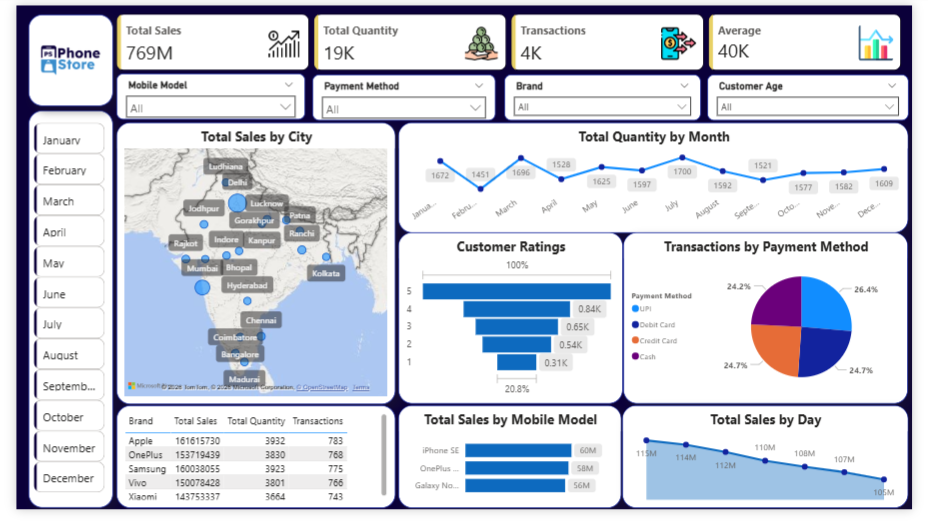

The dashboard page shown, as its layout file describes it:
{"tool":"powerbi","page":{"name":"Page 1","canvas":[1280,720],"ordinal":0},"visuals":[{"type":"shape","box":[16.5,150,121.1,568.4],"z":0},{"type":"shape","box":[16.5,12.4,121.1,130.8],"z":1000},{"type":"image","box":[16.5,12.4,121.1,130.8],"z":2000},{"type":"advancedSlicerVisual","fields":{"Values":["Sales Data.Date.Variation.Date Hierarchy.Month"]},"box":[20.6,162.4,111.5,543.7],"z":3000},{"type":"cardVisual","fields":{"Data":["Sales Data.Total Sales","Sales Data.Total Quantity","Sales Data.Transactions","Sales Data.Average"]},"box":[130.8,0,1147.9,114.2],"z":4000},{"type":"map","fields":{"Category":["Sales Data.City"],"Size":["Sales Data.Total Sales"]},"box":[143.1,166.5,399.1,403.3],"z":4001},{"type":"lineChart","fields":{"Category":["Sales Data.Date.Variation.Date Hierarchy.Month","Sales Data.Date.Variation.Date Hierarchy.Day"],"Y":["Sales Data.Total Quantity"]},"box":[545,166.5,729.5,158.3],"z":4002},{"type":"clusteredBarChart","fields":{"Category":["Sales Data.Mobile Model"],"Y":["Sales Data.Total Sales"]},"box":[545,571.2,319.3,147.3],"z":4003},{"type":"pieChart","fields":{"Category":["Sales Data.Payment Method"],"Y":["Sales Data.Transactions"]},"box":[867.1,324.8,407.4,245],"z":4004},{"type":"funnel","title":"Customer Ratings ","fields":{"Y":["CountNonNull(Sales Data.Customer Ratings)"],"Category":["Sales Data.Customer Ratings"]},"box":[545,324.8,320.7,245],"z":4005},{"type":"areaChart","title":"Total Sales by Day","fields":{"Category":["Sales Data.Day Name"],"Y":["Sales Data.Total Sales"]},"box":[865.7,571.2,408.8,147.3],"z":4006},{"type":"tableEx","fields":{"Values":["Sales Data.Brand","Sales Data.Total Sales","Sales Data.Total Quantity","Sales Data.Transactions"]},"box":[143.1,571.2,399.1,147.3],"z":4007},{"type":"slicer","fields":{"Values":["Sales Data.Mobile Model"]},"box":[143.1,97.7,269.8,66.1],"z":4008},{"type":"slicer","fields":{"Values":["Sales Data.Payment Method"]},"box":[422.5,99.1,261.5,66.1],"z":4009},{"type":"slicer","fields":{"Values":["Sales Data.Brand"]},"box":[696.4,99.1,280.8,66.1],"z":4010},{"type":"slicer","fields":{"Values":["Sales Data.Customer Age"]},"box":[986.8,99.1,287.7,66.1],"z":4011}]}

Visuals, with their boxes in screenshot pixels (x1, y1, x2, y2), scaled from the page's 1280x720 canvas onto the 928x524 screenshot:
shape: box=[12, 109, 100, 523]
shape: box=[12, 9, 100, 104]
image: box=[12, 9, 100, 104]
advancedSlicerVisual - Sales Data.Date.Variation.Date Hierarchy.Month: box=[15, 118, 96, 514]
cardVisual - Sales Data.Total Sales x Sales Data.Total Quantity: box=[95, 0, 927, 83]
map - Sales Data.City x Sales Data.Total Sales: box=[104, 121, 393, 415]
lineChart - Sales Data.Date.Variation.Date Hierarchy.Month x Sales Data.Date.Variation.Date Hierarchy.Day: box=[395, 121, 924, 236]
clusteredBarChart - Sales Data.Mobile Model x Sales Data.Total Sales: box=[395, 416, 627, 523]
pieChart - Sales Data.Payment Method x Sales Data.Transactions: box=[629, 236, 924, 415]
"Customer Ratings " funnel: box=[395, 236, 628, 415]
"Total Sales by Day" areaChart: box=[628, 416, 924, 523]
tableEx - Sales Data.Brand x Sales Data.Total Sales: box=[104, 416, 393, 523]
slicer - Sales Data.Mobile Model: box=[104, 71, 299, 119]
slicer - Sales Data.Payment Method: box=[306, 72, 496, 120]
slicer - Sales Data.Brand: box=[505, 72, 708, 120]
slicer - Sales Data.Customer Age: box=[715, 72, 924, 120]
